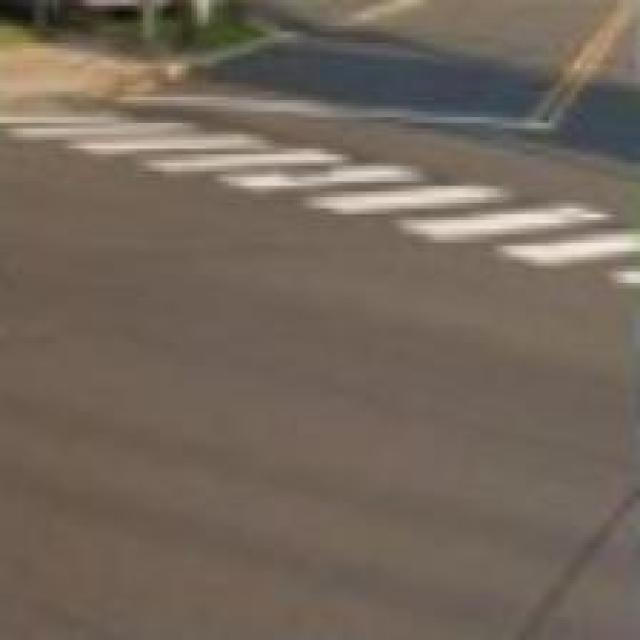zebra: (3, 93, 638, 305)
